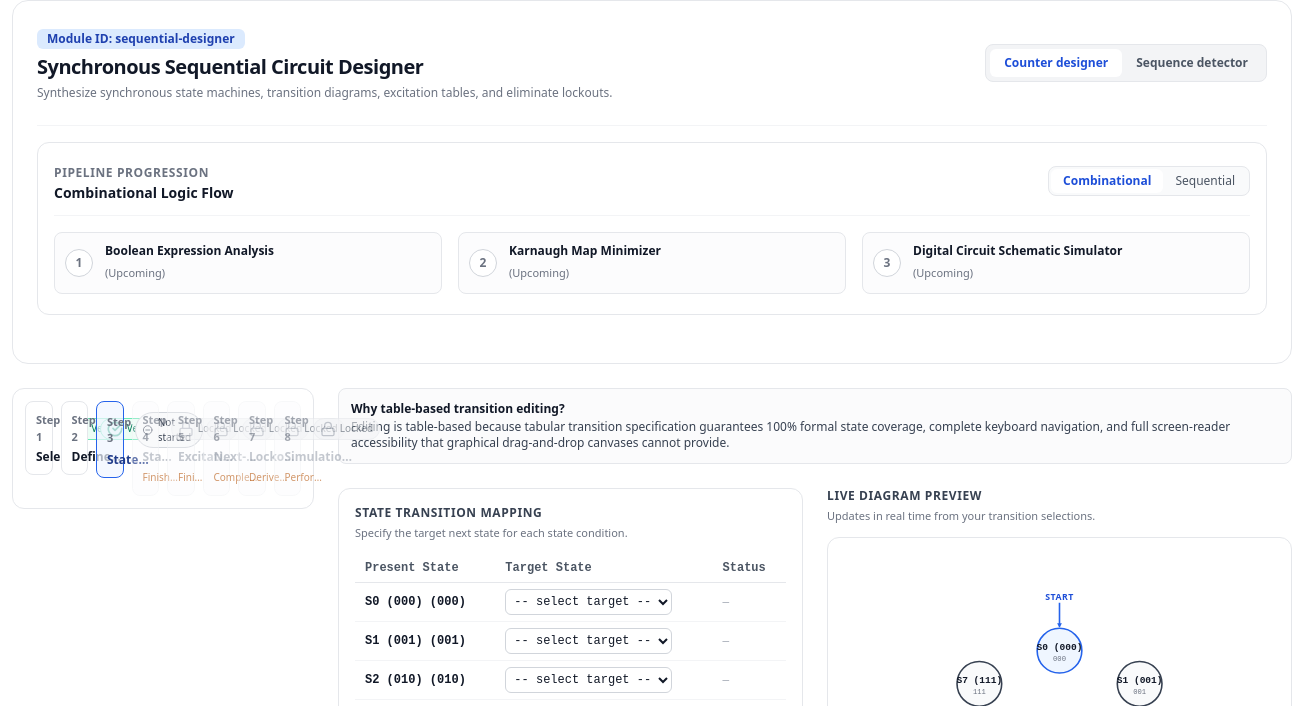
it: SequentialPage component › switches between Counter designer and Sequence detector tabs
Click the button "Sequence detector". click: (1192, 63)
box: [1122,49,1262,77]
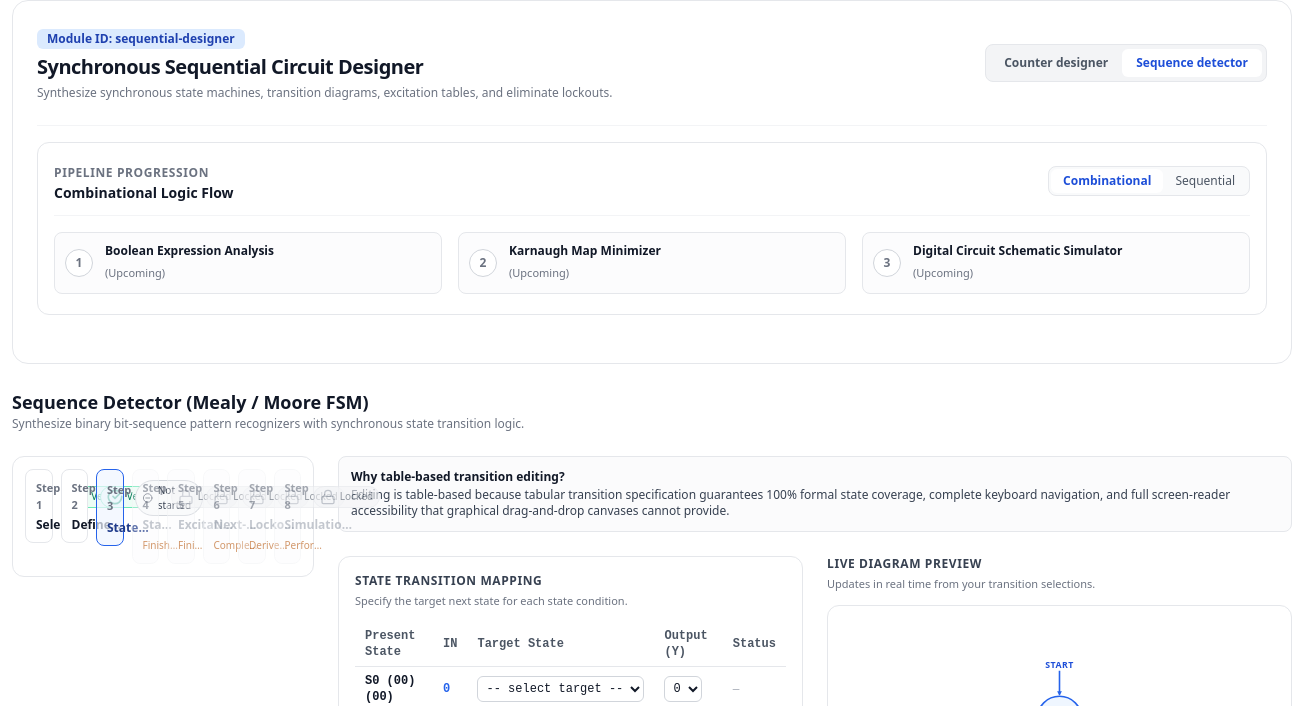
Result: the heading "Sequence Detector (Mealy / Moore FSM)" is shown at [12,390,369,414]
Click the button "Counter designer". click: (1056, 63)
box: [990,49,1122,77]
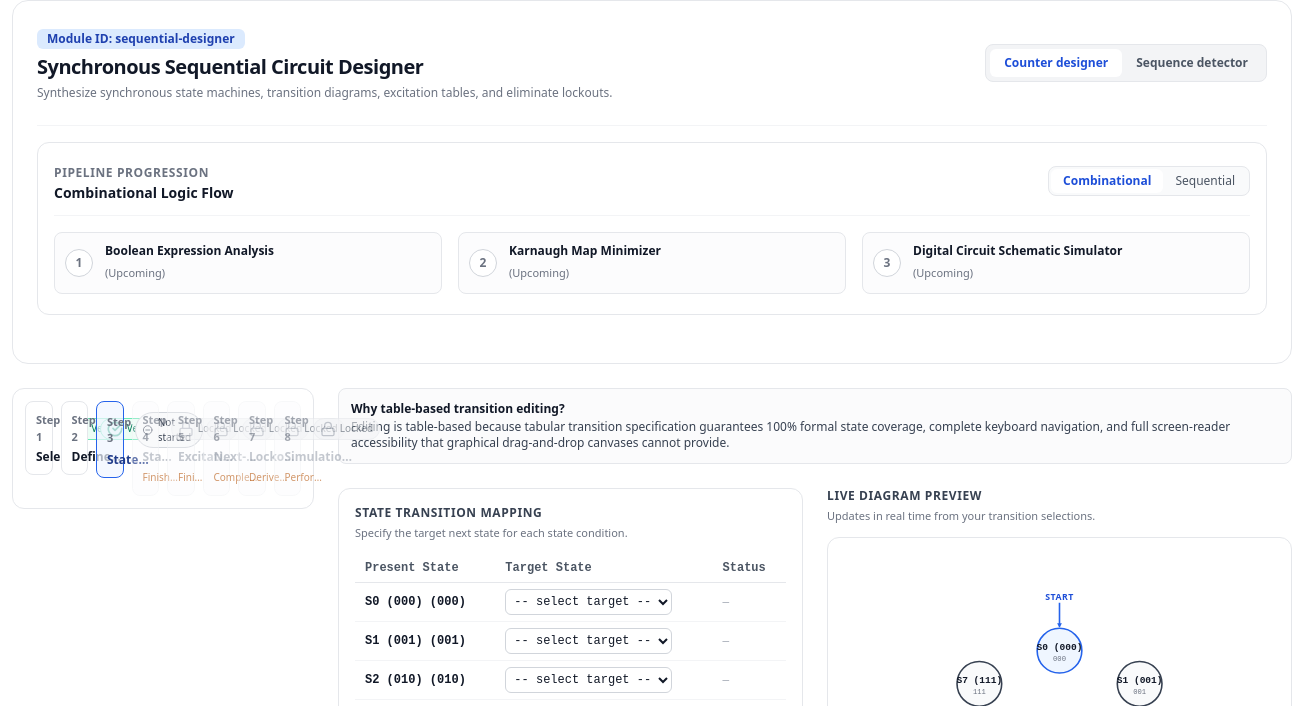
Result: the heading "Sequence Detector (Mealy / Moore FSM)" is gone
